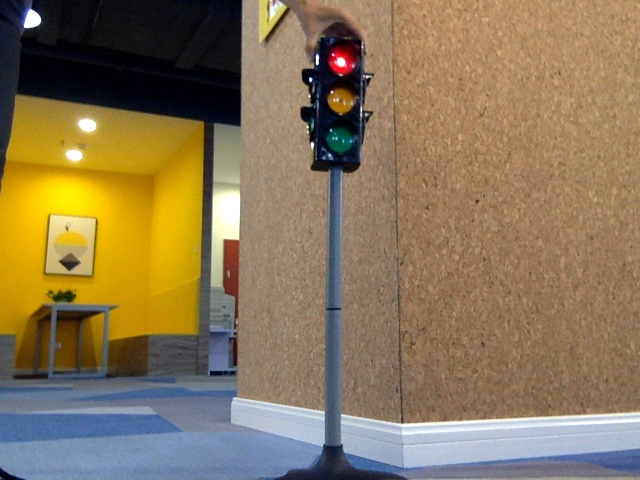red: (318, 46, 356, 165)
